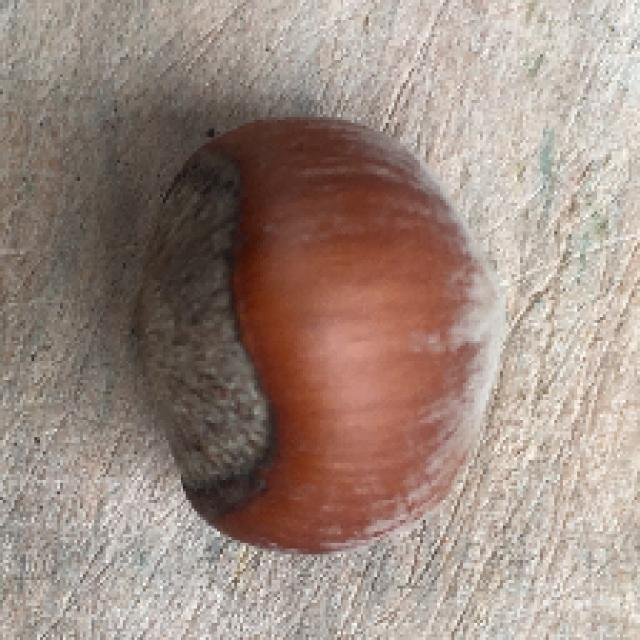QualityHazelnut: (137, 122, 510, 560)
